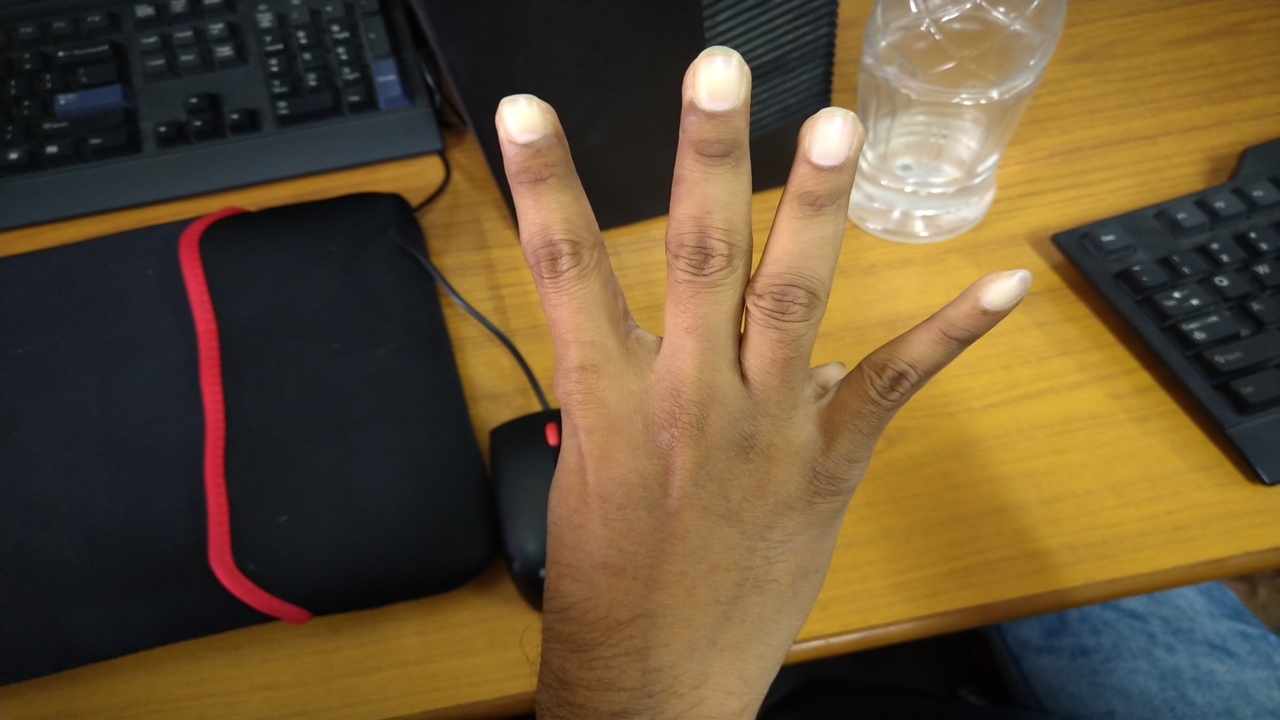fingertip: (678, 40, 754, 120), (794, 100, 874, 176), (970, 254, 1048, 322), (488, 92, 558, 156)
